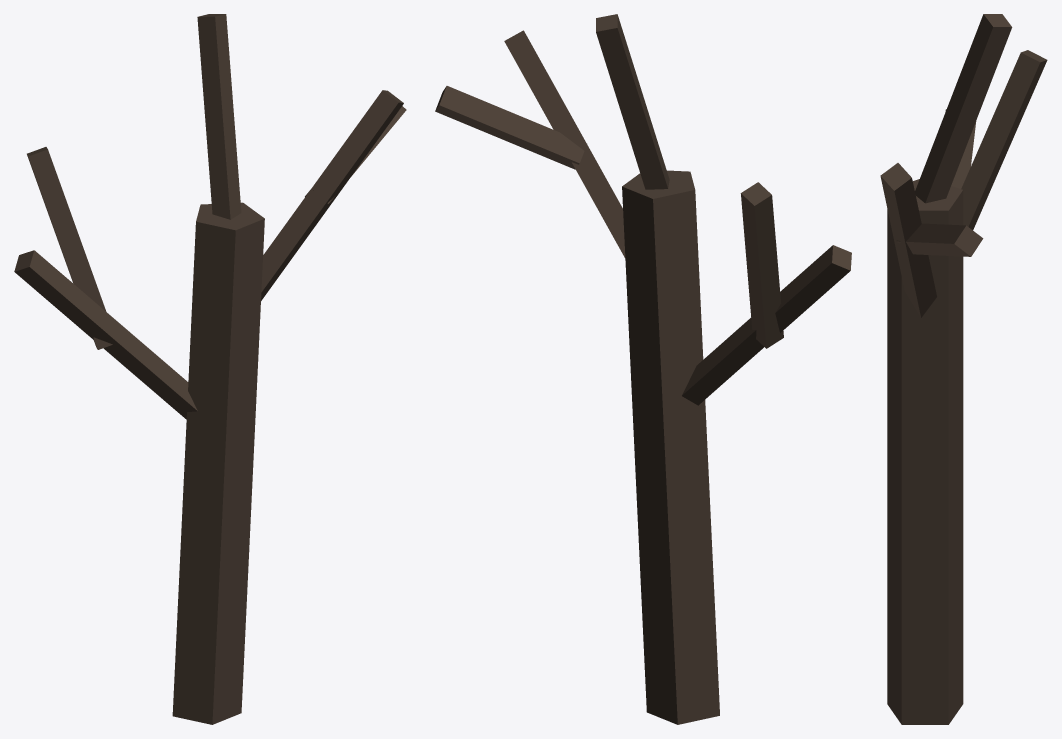
The model's file is tree_dead.glb.
The picture shows the model from 3 angles, left to right: view 1: azimuth 30°, elevation 25°; view 2: azimuth 150°, elevation 25°; view 3: azimuth 270°, elevation 25°; orthographic projection. The views are drawn at different scales.
Parts seen in each view (by area): view 1: dead trunk, bare branch, bare branch.003, bare branch.001, bare branch.002; view 2: dead trunk, bare branch, bare branch.001, bare branch.003, bare branch.002, bare branch.004; view 3: dead trunk, bare branch.003, bare branch.002, bare branch.001, bare branch.004, bare branch.
Boxes of the visible parts, x1=… form: dead trunk: x1=172, y1=202, x2=264, y2=724; bare branch: x1=14, y1=250, x2=197, y2=419; bare branch.003: x1=197, y1=14, x2=241, y2=219; bare branch.001: x1=261, y1=90, x2=403, y2=300; bare branch.002: x1=27, y1=147, x2=112, y2=349; dead trunk: x1=622, y1=170, x2=719, y2=724; bare branch: x1=682, y1=245, x2=851, y2=405; bare branch.001: x1=504, y1=30, x2=625, y2=257; bare branch.003: x1=596, y1=14, x2=669, y2=189; bare branch.002: x1=740, y1=182, x2=783, y2=348; bare branch.004: x1=435, y1=86, x2=584, y2=169; dead trunk: x1=887, y1=179, x2=963, y2=724; bare branch.003: x1=915, y1=14, x2=1012, y2=203; bare branch.002: x1=961, y1=50, x2=1047, y2=229; bare branch.001: x1=880, y1=163, x2=936, y2=317; bare branch.004: x1=896, y1=223, x2=983, y2=256; bare branch: x1=945, y1=109, x2=976, y2=188.
Bounding box in the file's own units: 0.6647 × 1.09 × 0.2302.
